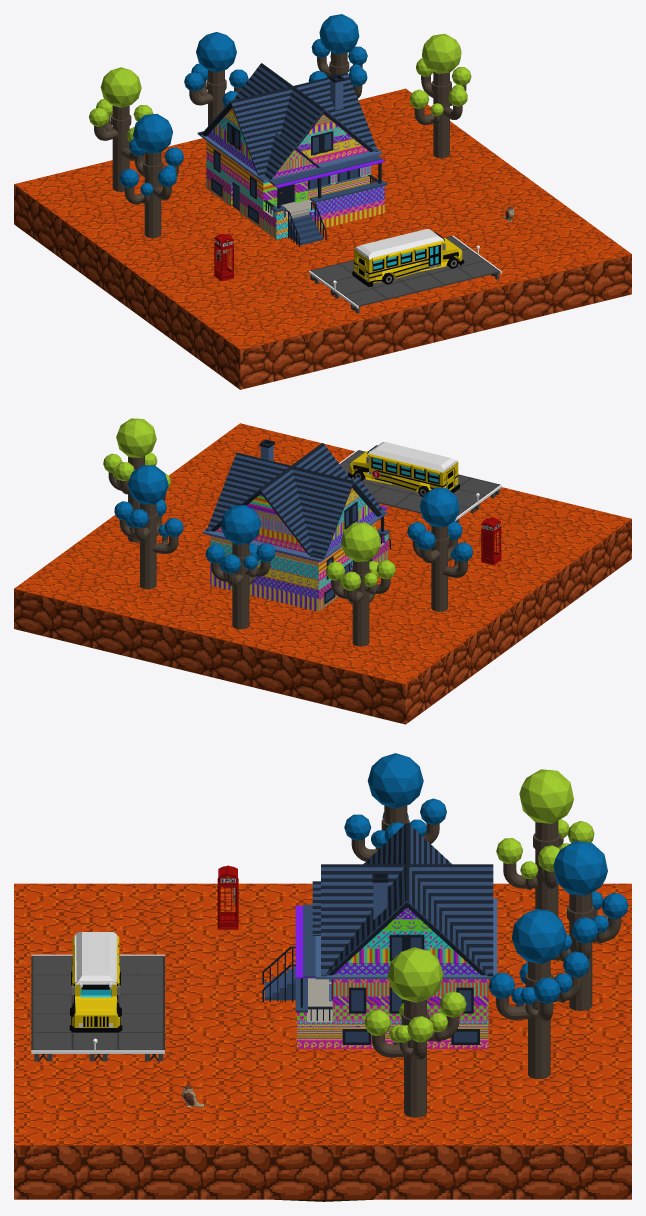
The picture shows the model from 3 angles, top to bottom: view 1: azimuth 30°, elevation 25°; view 2: azimuth 150°, elevation 25°; view 3: azimuth 270°, elevation 25°; orthographic projection. The views are drawn at different scales.
Parts seen in each view (by area): view 1: Cube.001, Cube.676, VEHICLES_SCHOOL_BUS, OBJRANDOM_PHONEBOOTH; view 2: Cube.001, Cube.676, VEHICLES_SCHOOL_BUS, OBJRANDOM_PHONEBOOTH; view 3: Cube.001, Cube.676, VEHICLES_SCHOOL_BUS, OBJRANDOM_PHONEBOOTH.
Part boxes in pixels (x1,y1,x2,y2): Cube.001: (14,14,631,389); Cube.676: (197,63,387,246); VEHICLES_SCHOOL_BUS: (352,229,464,286); OBJRANDOM_PHONEBOOTH: (213,234,233,281); Cube.001: (14,418,631,724); Cube.676: (202,439,390,611); VEHICLES_SCHOOL_BUS: (348,442,459,496); OBJRANDOM_PHONEBOOTH: (481,517,501,565); Cube.001: (14,753,631,1199); Cube.676: (262,823,497,1048); VEHICLES_SCHOOL_BUS: (69,932,122,1032); OBJRANDOM_PHONEBOOTH: (217,865,238,929).
Bounding box in the file's own units: 4000 × 1730 × 4000.
48 materials, 8 textured.
